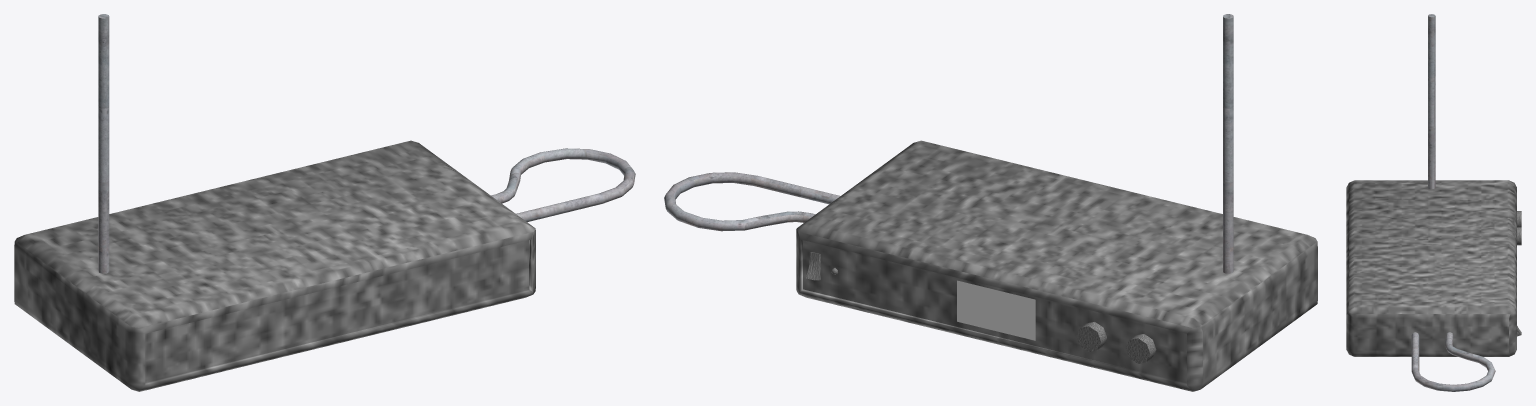
The model's file is item_theremin.glb.
3 views of the same model, side by side, from view 1: azimuth 30°, elevation 25°; view 2: azimuth 150°, elevation 25°; view 3: azimuth 270°, elevation 25° (orthographic). The views are drawn at different scales.
Visible parts, largest first — view 1: ThereminBody; view 2: ThereminBody, EmptyScreen; view 3: ThereminBody.
Part boxes in pixels (bbox=[...]): ThereminBody: bbox=[14, 14, 635, 391]; ThereminBody: bbox=[664, 14, 1317, 391]; EmptyScreen: bbox=[957, 280, 1035, 340]; ThereminBody: bbox=[1346, 14, 1521, 391].
Bounding box in the file's own units: 0.4651 × 0.2549 × 0.1829.
6 materials, 5 textured.
